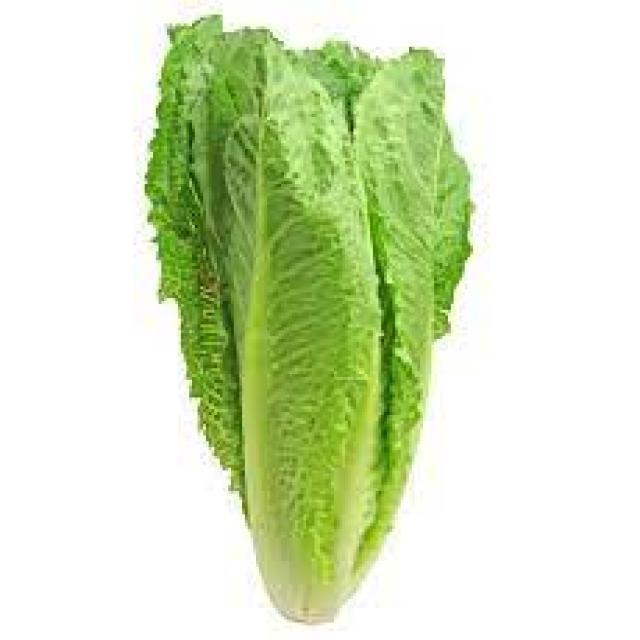Lettuce-Ready-to-Harvest: (148, 16, 470, 620)
